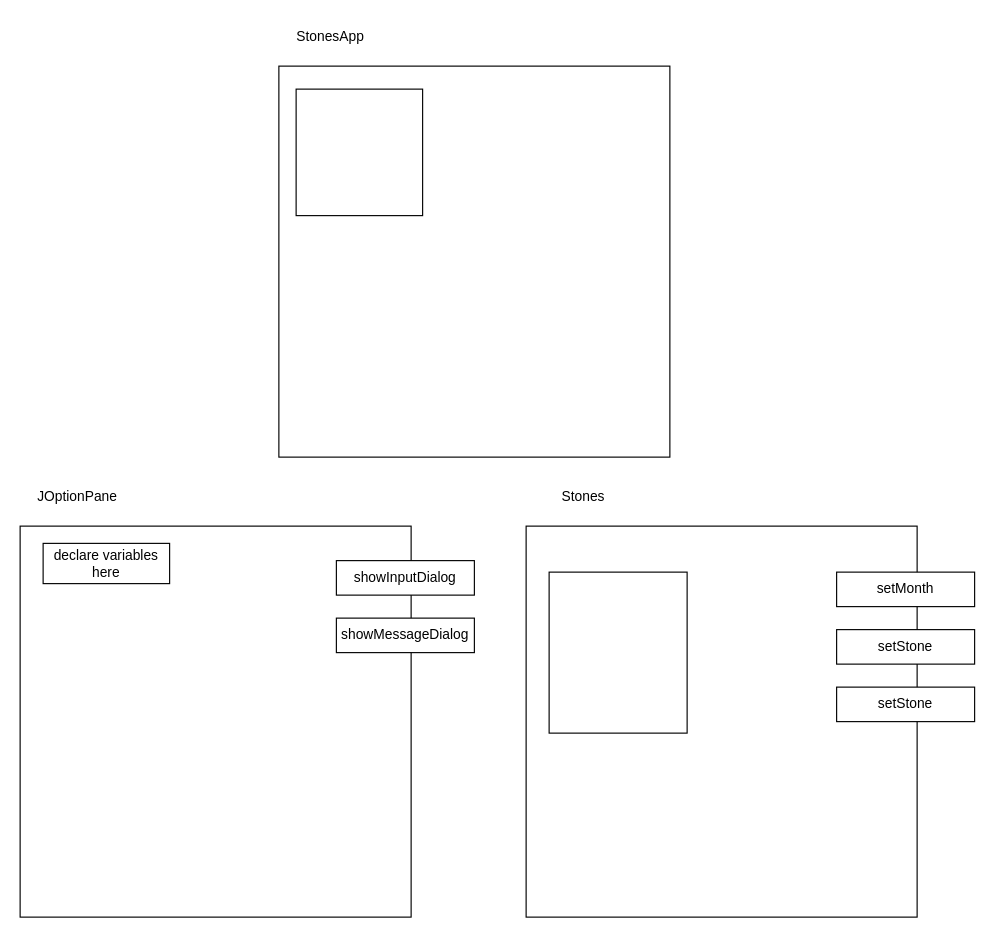
The diagram is 995 pixels wide and 937 high, and some of its shapes have lost their labels. The shapes that lost their labels are listed below. From the top down, each one's centre as x and y in pixels, then its label:
the point at 359,152: String StoneMonth; String Stone;
the point at 617,652: String StoneMonth; String Stone; int age;
